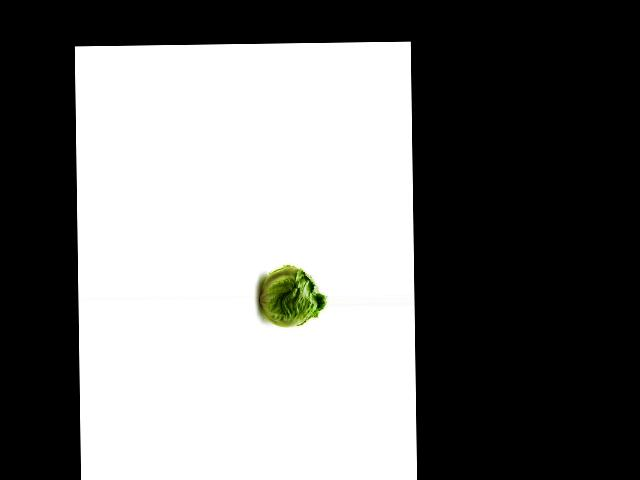lettuce: (256, 259, 327, 330)
